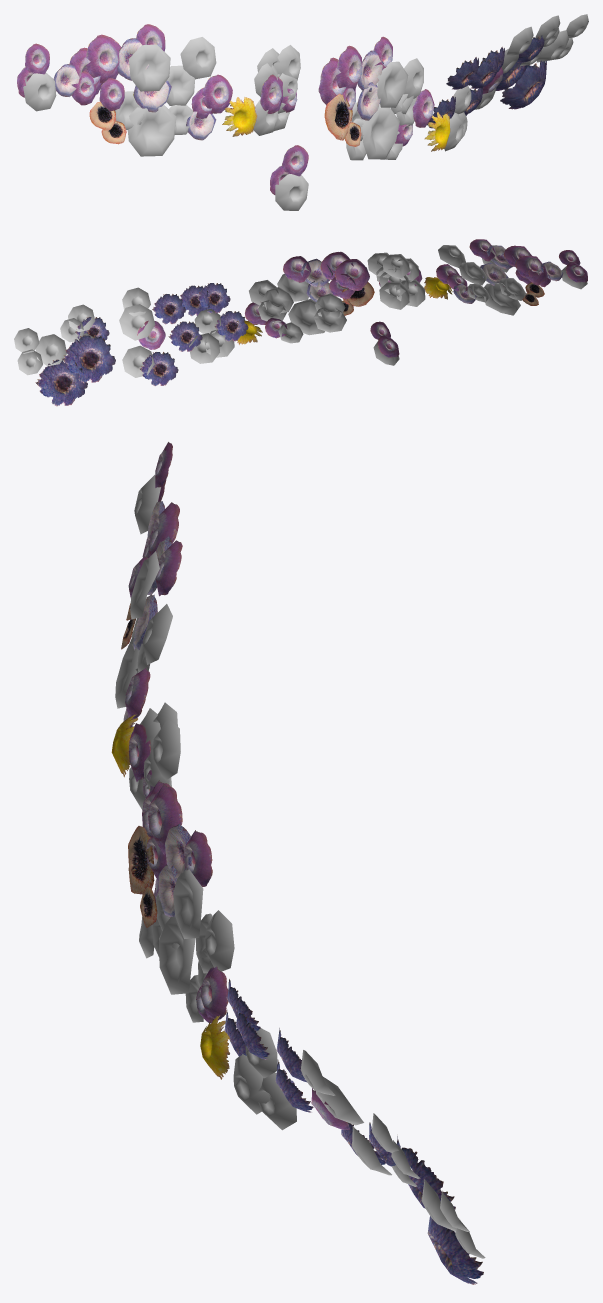
File: Right_Flower10.fbx
3 views of the same model, one above another, from view 1: azimuth 30°, elevation 25°; view 2: azimuth 150°, elevation 25°; view 3: azimuth 270°, elevation 25° (orthographic). The views are drawn at different scales.
Parts seen in each view (by area): view 1: Circle.2232, Circle.2237, Circle.2188, Circle.2216, Circle.1702, Circle.2230, Circle.2193, Circle.2206, Circle.2250, Circle.2207, Circle.2166, Circle.2173 (+46 smaller); view 2: Circle.1701, Circle.1702, Circle.1716, Circle.1703, Circle.2177, Circle.2188, Circle.2232, Circle.1687, Circle.1706, Circle.1711, Circle.1714, Circle.1710 (+51 smaller); view 3: Circle.2188, Circle.1702, Circle.2193, Circle.2173, Circle.2166, Circle.2186, Circle.2245, Circle.2165, Circle.2198, Circle.2195, Circle.2180, Circle.2174 (+1 smaller).
Part boxes in pixels (x1,y1,x2,y2): Circle.2232: (127, 104, 176, 156); Circle.2237: (128, 44, 170, 91); Circle.2188: (362, 105, 399, 159); Circle.2216: (85, 34, 121, 83); Circle.1702: (500, 60, 546, 109); Circle.2230: (180, 37, 216, 79); Circle.2193: (377, 61, 408, 107); Circle.2206: (275, 174, 308, 210); Circle.2250: (23, 72, 56, 111); Circle.2207: (222, 97, 257, 136); Circle.2166: (324, 93, 352, 140); Circle.2173: (335, 45, 362, 90); Circle.1701: (62, 335, 115, 383); Circle.1702: (35, 359, 87, 406); Circle.1716: (119, 304, 155, 340); Circle.1703: (139, 352, 178, 386); Circle.2177: (334, 259, 369, 290); Circle.2188: (288, 299, 324, 335); Circle.2232: (483, 283, 520, 315); Circle.1687: (35, 334, 66, 366); Circle.1706: (214, 311, 248, 341); Circle.1711: (152, 294, 185, 324); Circle.1714: (168, 321, 202, 351); Circle.1710: (196, 283, 230, 313); Circle.2188: (159, 917, 195, 994); Circle.1702: (427, 1216, 483, 1284); Circle.2193: (173, 869, 203, 938); Circle.2173: (148, 784, 182, 854); Circle.2166: (128, 826, 154, 894); Circle.2186: (205, 910, 234, 971); Circle.2245: (152, 718, 180, 779); Circle.2165: (200, 1015, 229, 1079); Circle.2198: (233, 1054, 270, 1114); Circle.2195: (258, 1072, 296, 1130); Circle.2180: (200, 966, 228, 1020); Circle.2174: (184, 830, 212, 886).
Size of the model in its own units: 277 by 112 by 91.18.
